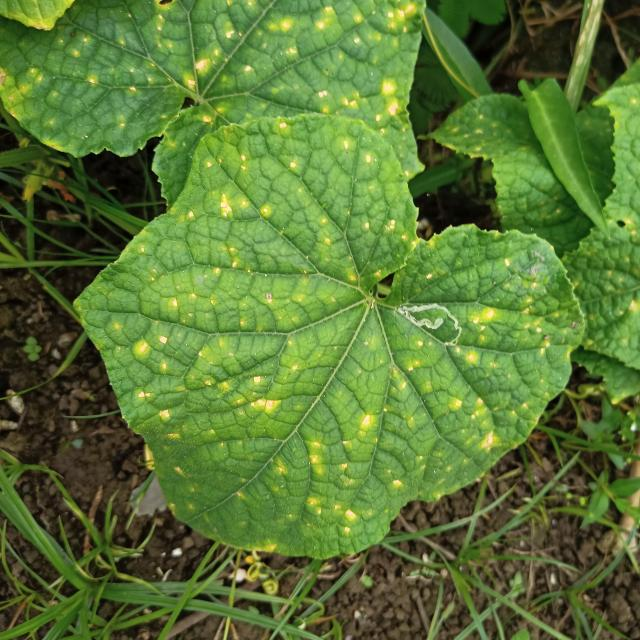disease_cucumber: (110, 132, 540, 565), (54, 4, 426, 152)
